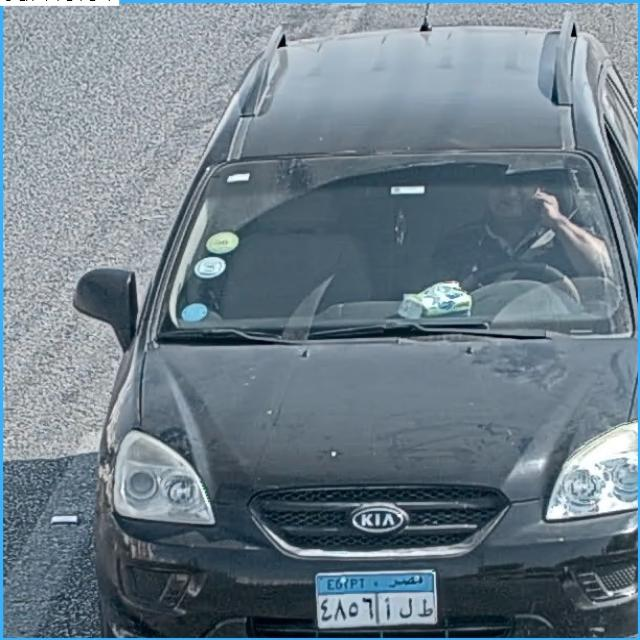windshield: (160, 172, 623, 325)
